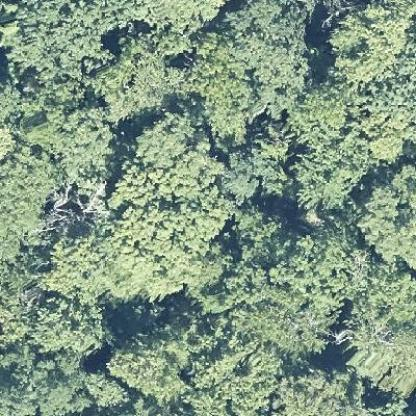tree-top: (107, 112, 230, 282), (228, 206, 346, 359), (224, 2, 320, 121), (337, 272, 413, 402), (39, 234, 181, 300), (109, 314, 212, 397), (97, 28, 185, 113), (321, 0, 415, 79), (0, 143, 59, 260), (359, 162, 414, 274), (32, 296, 106, 356), (225, 146, 288, 202)
